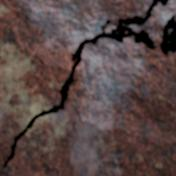brick: (0, 0, 151, 164), (0, 38, 175, 175), (132, 0, 175, 42)
crack: (0, 0, 175, 173)
